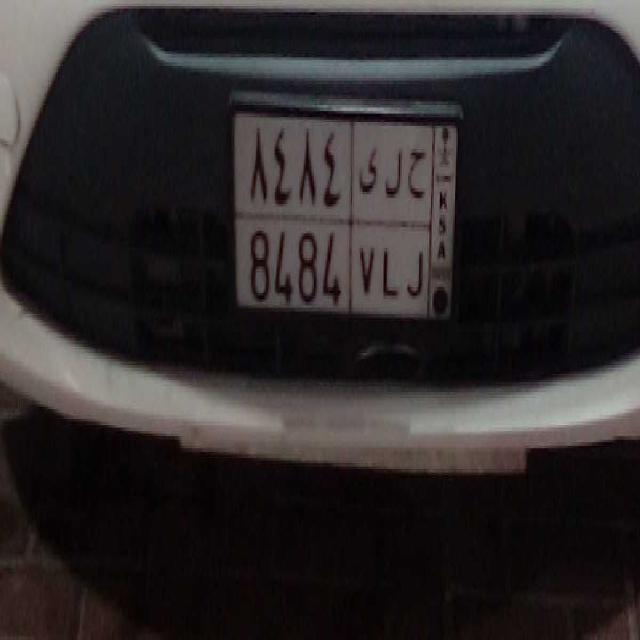license_plate: (233, 210, 429, 322)
